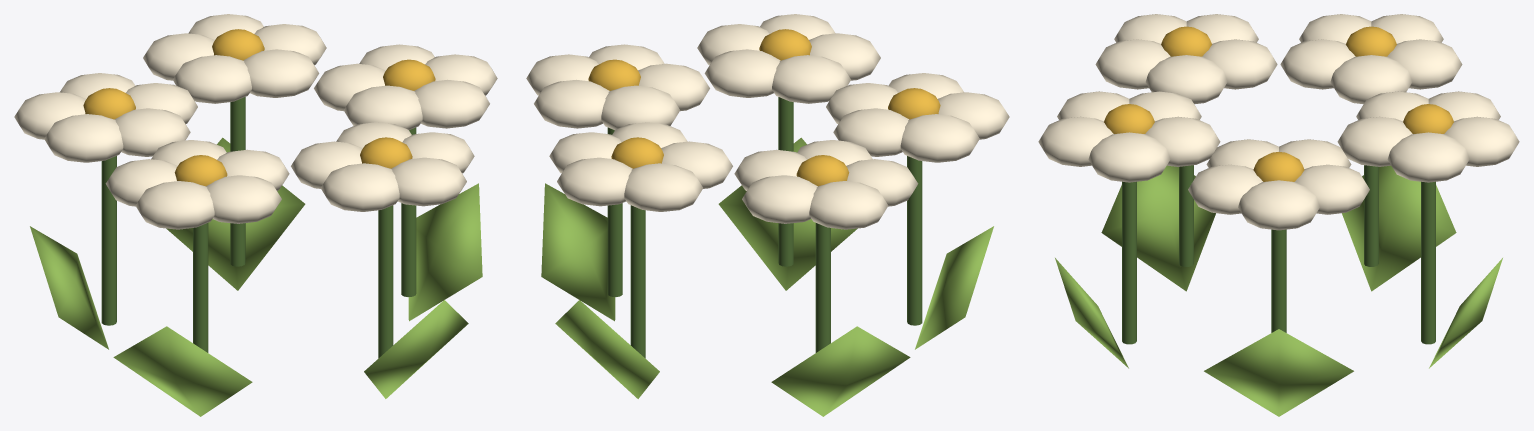
Rendered from flower_ready.fbx.
3 renders of one model, left to right at view 1: azimuth 30°, elevation 25°; view 2: azimuth 150°, elevation 25°; view 3: azimuth 270°, elevation 25°, orthographic.
Parts seen in each view (by area): view 1: flower_ready; view 2: flower_ready; view 3: flower_ready.
Part boxes in pixels (bbox=[...]): flower_ready: bbox=[14, 14, 497, 416]; flower_ready: bbox=[526, 14, 1009, 416]; flower_ready: bbox=[1038, 14, 1519, 416].
Bounding box in the file's own units: 1 × 0.6 × 1.
1 material, 1 textured.
